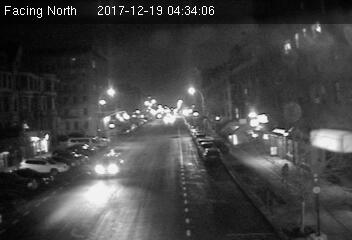car: (94, 149, 126, 180)
